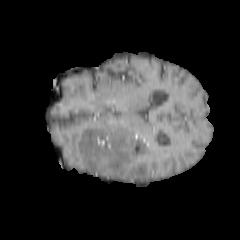glioma: (77, 126, 155, 171)
